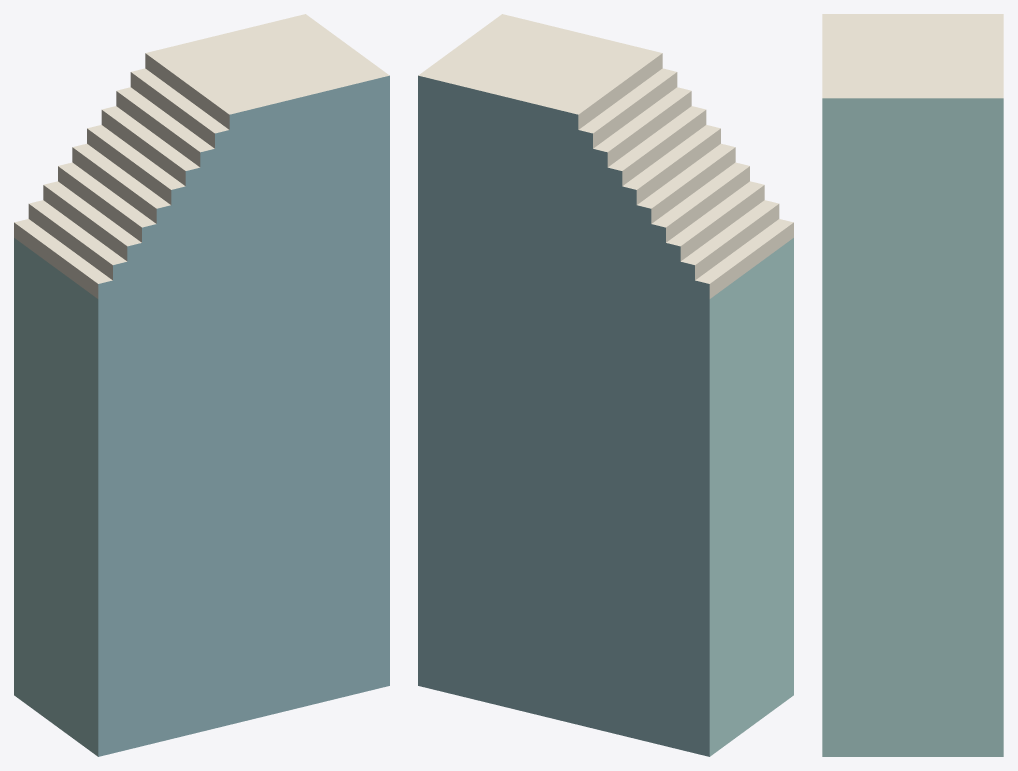
File: FrontCastle.fbx
The picture shows the model from 3 angles, left to right: view 1: azimuth 30°, elevation 25°; view 2: azimuth 150°, elevation 25°; view 3: azimuth 270°, elevation 25°; orthographic projection. The views are drawn at different scales.
Visible parts, largest first — view 1: FrontCastle; view 2: FrontCastle; view 3: FrontCastle.
Part boxes in pixels (x1=…): FrontCastle: x1=14, y1=14, x2=389, y2=756; FrontCastle: x1=418, y1=14, x2=793, y2=756; FrontCastle: x1=822, y1=14, x2=1003, y2=756.
Bounding box in the file's own units: 2 × 4 × 1.
